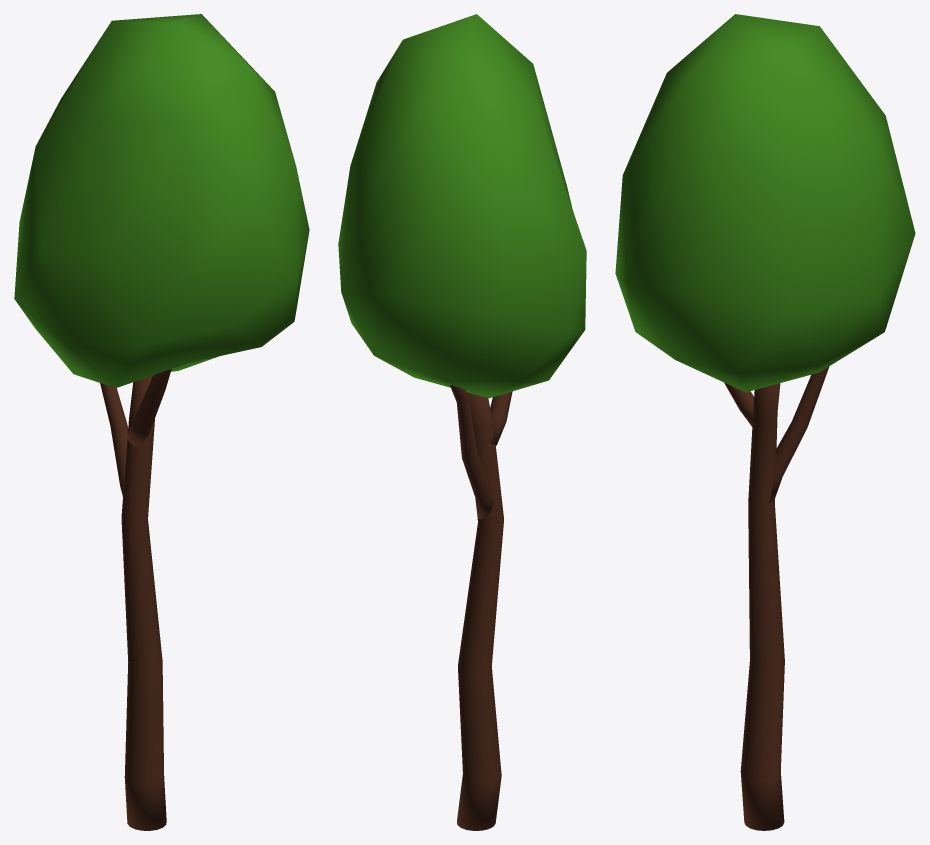
Rendered from drzewo6.fbx.
3 renders of one model, left to right at view 1: azimuth 30°, elevation 25°; view 2: azimuth 150°, elevation 25°; view 3: azimuth 270°, elevation 25°, orthographic. The views are drawn at different scales.
Parts seen in each view (by area): view 1: drzewo6; view 2: drzewo6; view 3: drzewo6.
Boxes of the visible parts, x1,y1,x2,y2 form: drzewo6: [14, 14, 309, 830]; drzewo6: [338, 14, 586, 830]; drzewo6: [615, 14, 915, 830].
Size of the model in its own units: 119 by 377 by 126.
